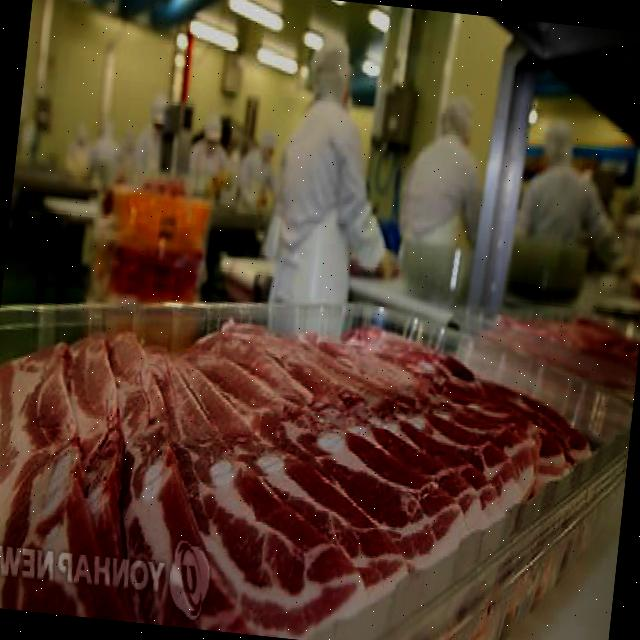meat: (0, 321, 563, 640)
